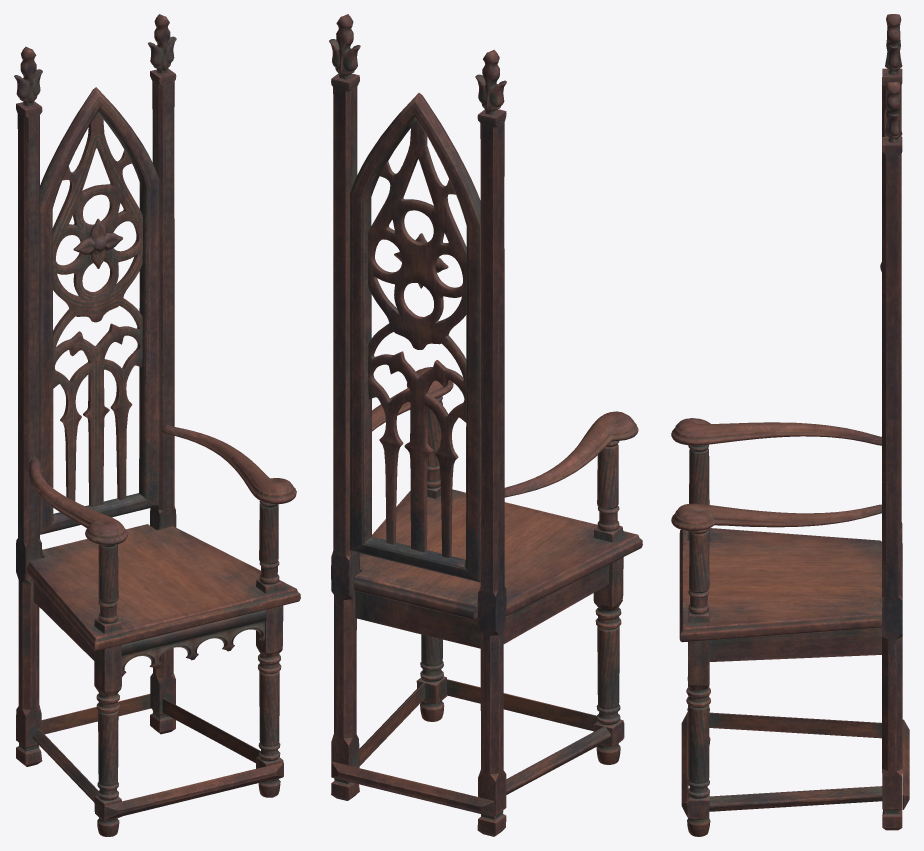
Rendered from Classic Wooden Chair.gltf.
3 renders of one model, left to right at view 1: azimuth 30°, elevation 25°; view 2: azimuth 150°, elevation 25°; view 3: azimuth 270°, elevation 25°, orthographic. The views are drawn at different scales.
Parts seen in each view (by area): view 1: WoodenChair_01; view 2: WoodenChair_01; view 3: WoodenChair_01.
Boxes of the visible parts, bbox=[...] form: WoodenChair_01: bbox=[14, 14, 300, 836]; WoodenChair_01: bbox=[329, 14, 642, 836]; WoodenChair_01: bbox=[671, 14, 909, 836].
Bounding box in the file's own units: 0.6882 × 2.27 × 0.6585.
Materials: 1 (1 with a texture image).
